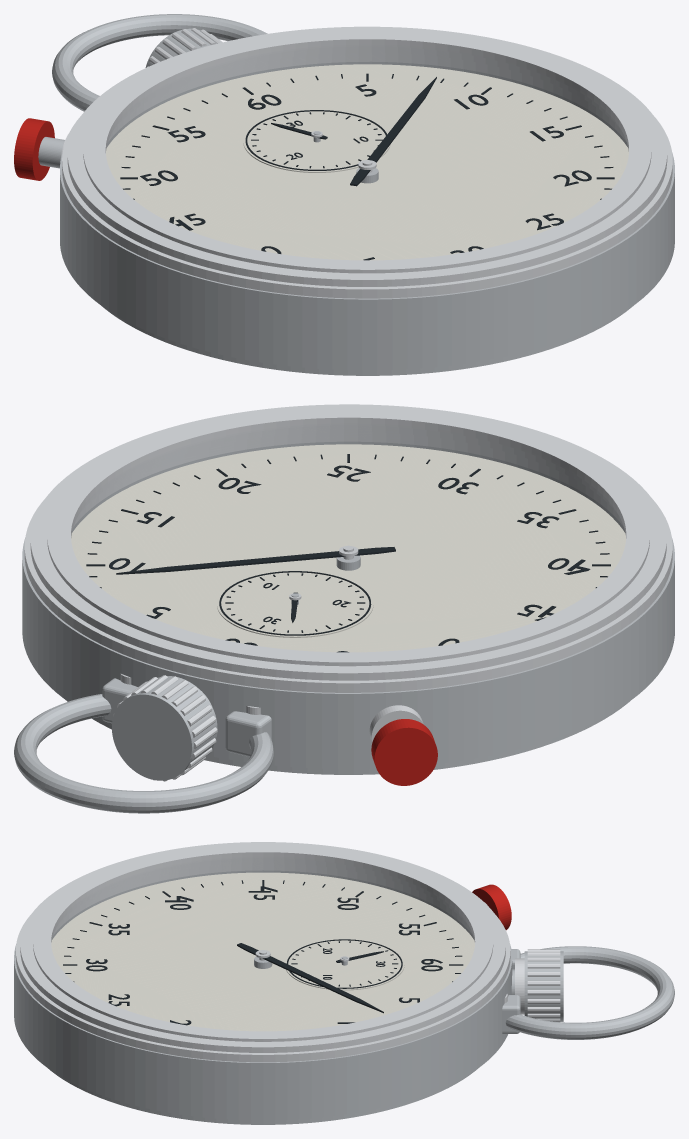
File: A-NEW-20261026-STOPWATCH-001_LOD0_R3.glb
The picture shows the model from 3 angles, top to bottom: view 1: azimuth 30°, elevation 25°; view 2: azimuth 150°, elevation 25°; view 3: azimuth 270°, elevation 25°; orthographic projection. The views are drawn at different scales.
Visible parts, largest first — view 1: pale main dial, case perimeter wall, crystal retaining lip, bezel upper rim, bezel lower step, subdial backing, closed suspension loop, closed rear shell, red mushroom reset button, long seconds hand, reset metal neck, winding crown (+1 smaller); view 2: pale main dial, case perimeter wall, crystal retaining lip, bezel upper rim, bezel lower step, closed suspension loop, subdial backing, winding crown, red mushroom reset button, closed rear shell, long seconds hand, loop anchor lug (+3 smaller); view 3: pale main dial, case perimeter wall, crystal retaining lip, bezel upper rim, bezel lower step, closed suspension loop, subdial backing, closed rear shell, winding crown, red mushroom reset button, long seconds hand, loop anchor lug.001 (+2 smaller).
Boxes of the visible parts, bbox=[...] form: pale main dial: bbox=[106, 64, 628, 260]; case perimeter wall: bbox=[60, 61, 674, 370]; crystal retaining lip: bbox=[83, 29, 651, 273]; bezel upper rim: bbox=[67, 26, 667, 286]; bezel lower step: bbox=[62, 52, 672, 298]; subdial backing: bbox=[243, 109, 390, 172]; closed suspension loop: bbox=[52, 14, 267, 111]; closed rear shell: bbox=[102, 305, 633, 375]; red mushroom reset button: bbox=[14, 118, 54, 180]; long seconds hand: bbox=[350, 77, 436, 186]; reset metal neck: bbox=[38, 137, 64, 168]; winding crown: bbox=[145, 28, 216, 67]; pale main dial: bbox=[71, 444, 625, 652]; case perimeter wall: bbox=[22, 441, 674, 769]; crystal retaining lip: bbox=[47, 407, 649, 666]; bezel upper rim: bbox=[30, 404, 666, 680]; bezel lower step: bbox=[24, 432, 672, 692]; closed suspension loop: bbox=[14, 694, 273, 813]; subdial backing: bbox=[217, 570, 373, 637]; winding crown: bbox=[112, 676, 217, 780]; red mushroom reset button: bbox=[371, 719, 437, 785]; closed rear shell: bbox=[67, 701, 629, 774]; long seconds hand: bbox=[116, 547, 395, 574]; loop anchor lug: bbox=[225, 711, 271, 756]; pale main dial: bbox=[51, 872, 474, 1031]; case perimeter wall: bbox=[14, 870, 512, 1120]; crystal retaining lip: bbox=[33, 844, 493, 1041]; bezel upper rim: bbox=[20, 842, 505, 1052]; bezel lower step: bbox=[15, 863, 510, 1062]; closed suspension loop: bbox=[505, 946, 674, 1039]; subdial backing: bbox=[285, 939, 404, 990]; closed rear shell: bbox=[48, 1068, 476, 1124]; winding crown: bbox=[524, 951, 563, 1021]; red mushroom reset button: bbox=[472, 884, 511, 930]; long seconds hand: bbox=[237, 943, 383, 1013]; loop anchor lug.001: bbox=[502, 995, 520, 1033].
Size of the model in its own units: 0.055 by 0.01 by 0.0729.
